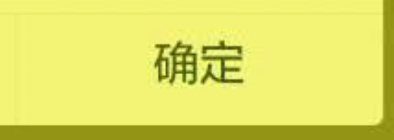Button: (1, 1, 393, 139)
